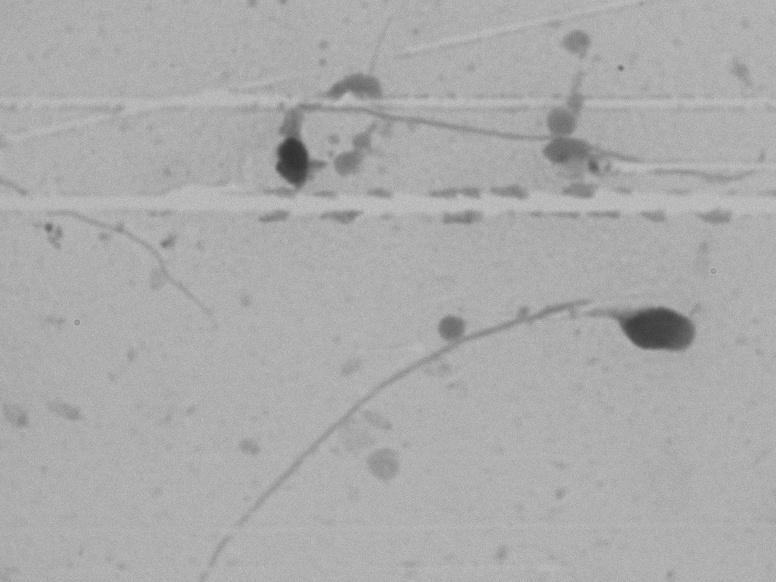Abnormal: (248, 253, 705, 560)
